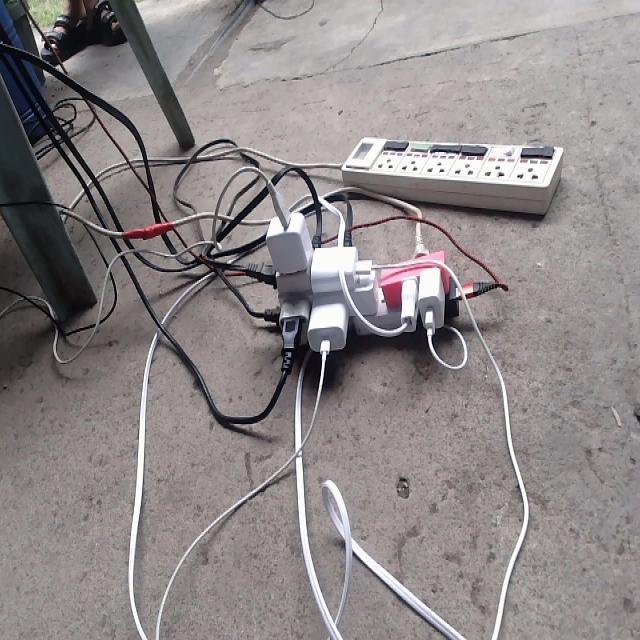-: (241, 179, 485, 373)
